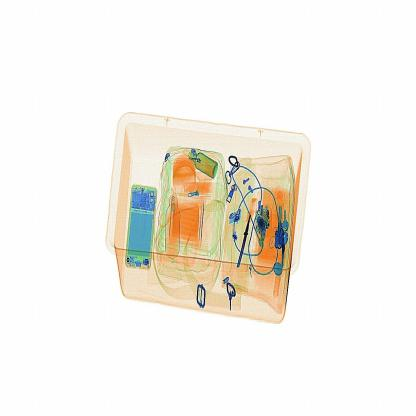gun: (229, 186, 262, 270)
